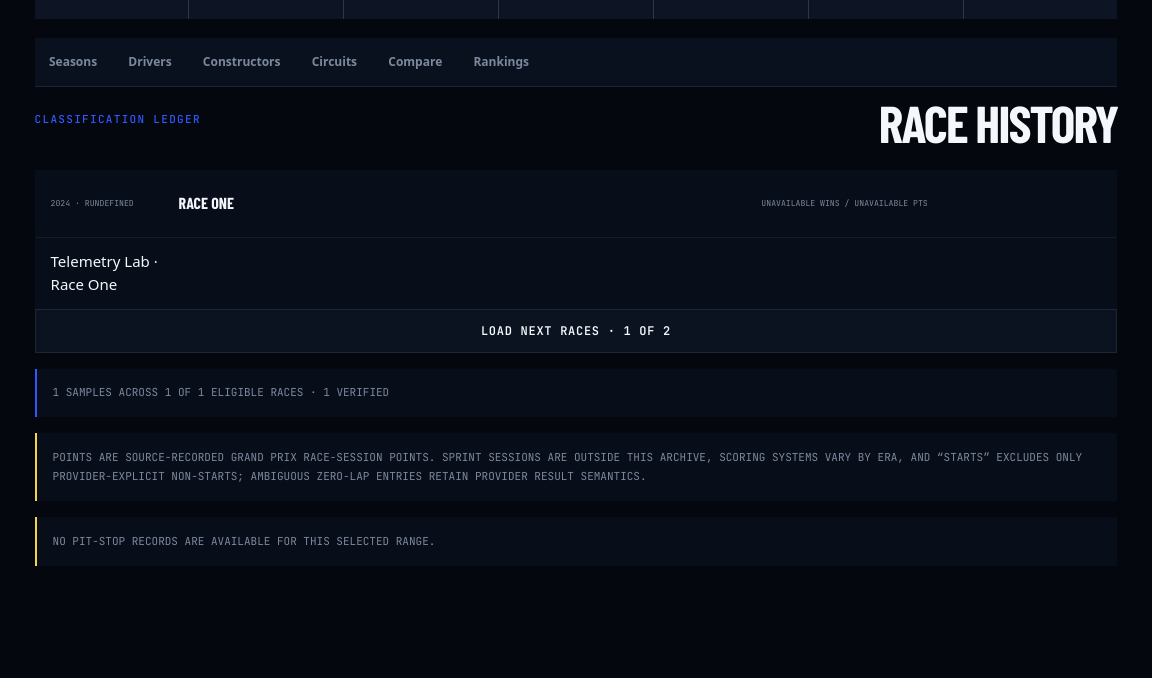
it: retains an entity profile and its ledger when loading more fails
(page scrolled)
Click the button "Load next races · 1 of 2". click: (576, 330)
box: [34,308,1117,352]
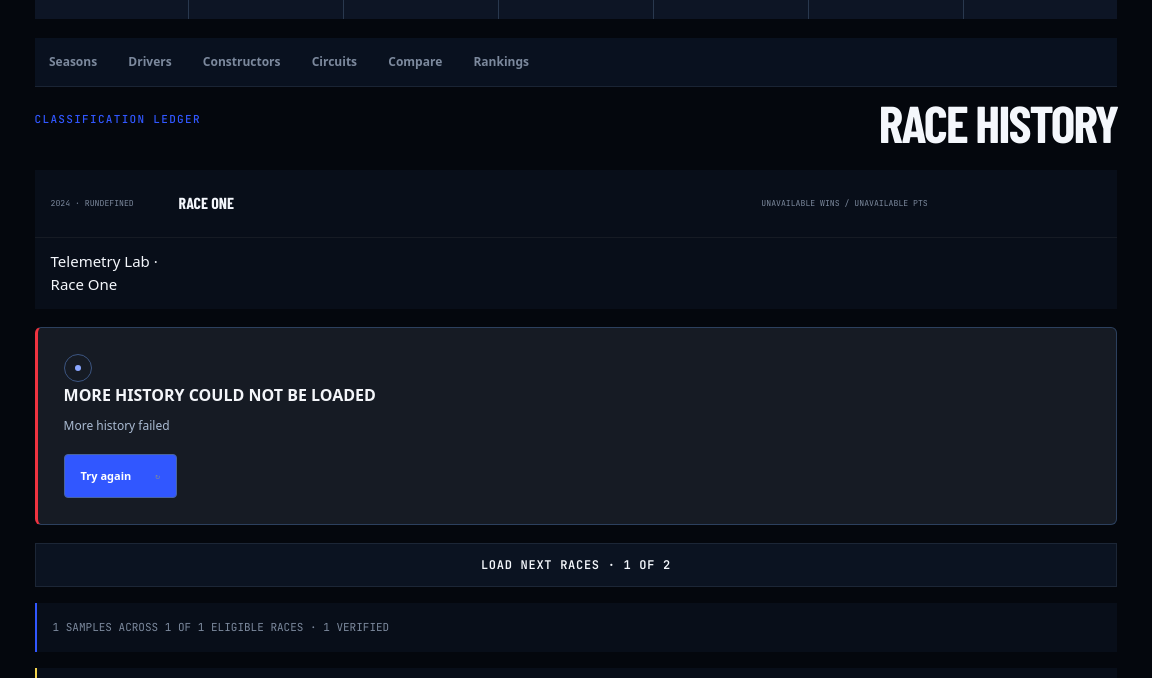
Expected: the link that starts with "· R" is shown, [34,170,1117,237]
Now the text "More history failed" is shown, box [64,416,170,434]
